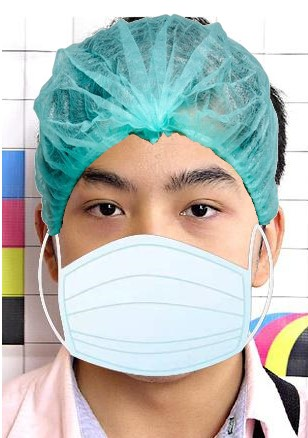with_mask_and_cap: (39, 21, 284, 379)
